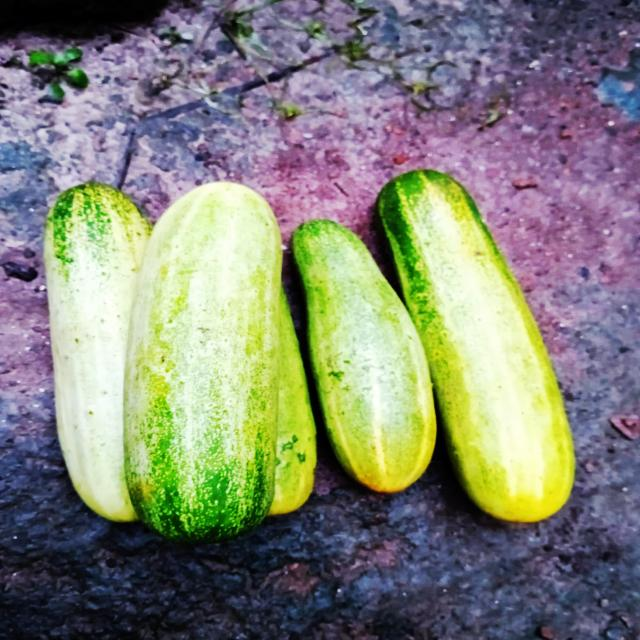Fresh-Cucumber: (372, 165, 578, 526), (122, 180, 284, 546), (290, 214, 440, 496), (42, 177, 152, 528)
